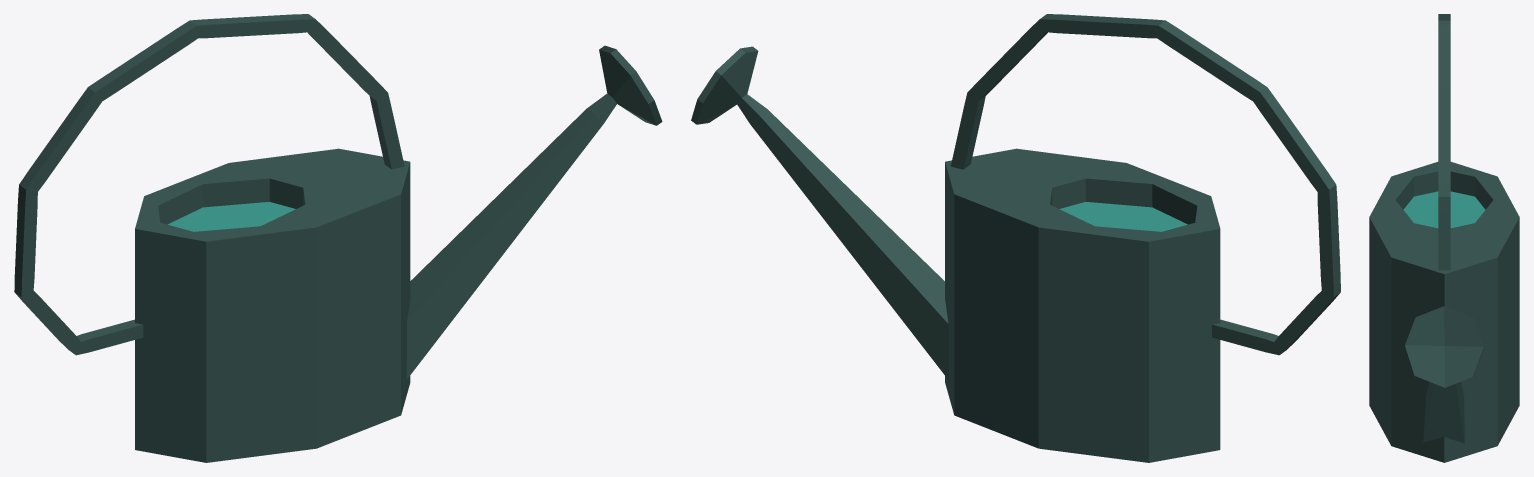
Rendered from wateringkannu.fbx.
3 renders of one model, left to right at view 1: azimuth 30°, elevation 25°; view 2: azimuth 150°, elevation 25°; view 3: azimuth 270°, elevation 25°, orthographic. The views are drawn at different scales.
Parts seen in each view (by area): view 1: wateringkannu; view 2: wateringkannu; view 3: wateringkannu.
Boxes of the visible parts, x1,y1,x2,y2 form: wateringkannu: [14, 14, 662, 462]; wateringkannu: [691, 14, 1340, 462]; wateringkannu: [1369, 14, 1519, 462].
Size of the model in its own units: 150 by 93.1 by 36.01.
